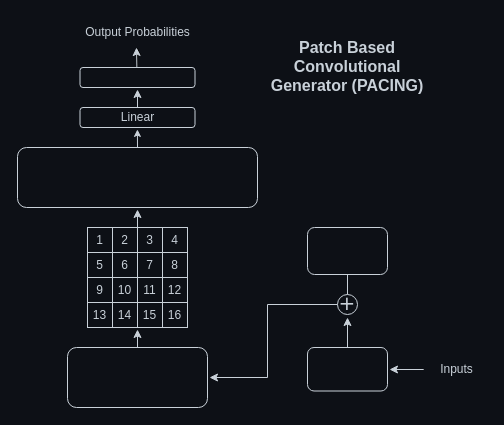
Image size: 504x425. Some labels were removed from this diagram. Each missing label, with the centre of its shape:
"ConvNextV2" belongs at (137,177).
"Input Embedding" belongs at (347,368).
"Patch projection of embeddings" belongs at (137,377).
"Position Embedding" belongs at (347,250).
"Softmax" belongs at (137,77).
